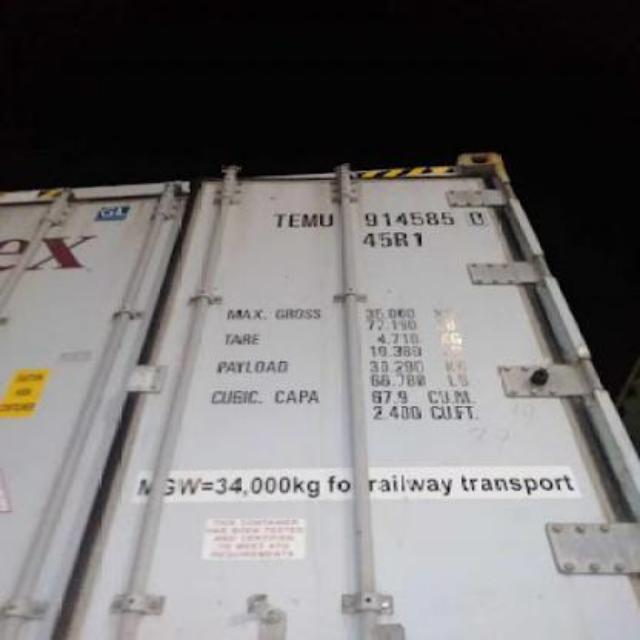0: (466, 210, 484, 226)
1: (382, 208, 396, 232)
4: (396, 211, 409, 227)
5: (408, 209, 424, 227), (440, 209, 456, 227)
8: (424, 209, 440, 227)
9: (364, 209, 376, 229)
E: (290, 212, 302, 228)
M: (302, 211, 320, 227)
T: (272, 212, 286, 228)
U: (320, 213, 336, 231)
